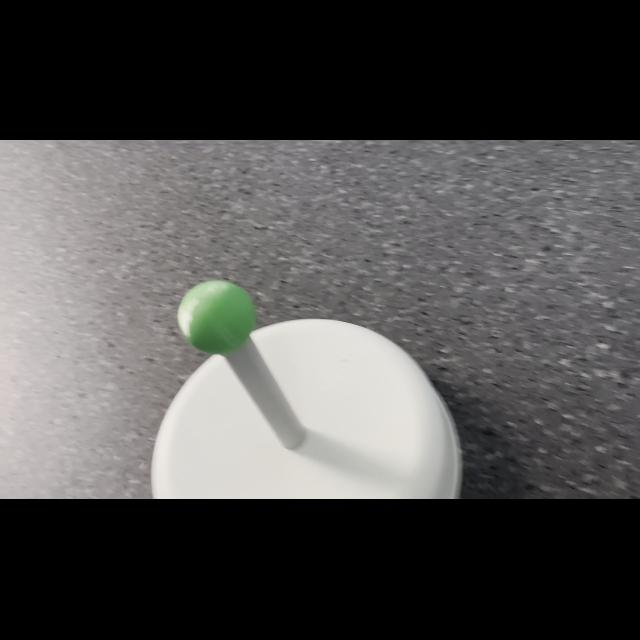objects: (175, 274, 258, 364)
